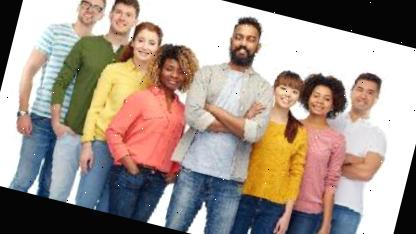person: (155, 2, 290, 234), (90, 31, 208, 227), (0, 0, 113, 200), (41, 0, 145, 208), (61, 9, 166, 215), (224, 63, 324, 234), (304, 64, 404, 234), (262, 65, 362, 234)
